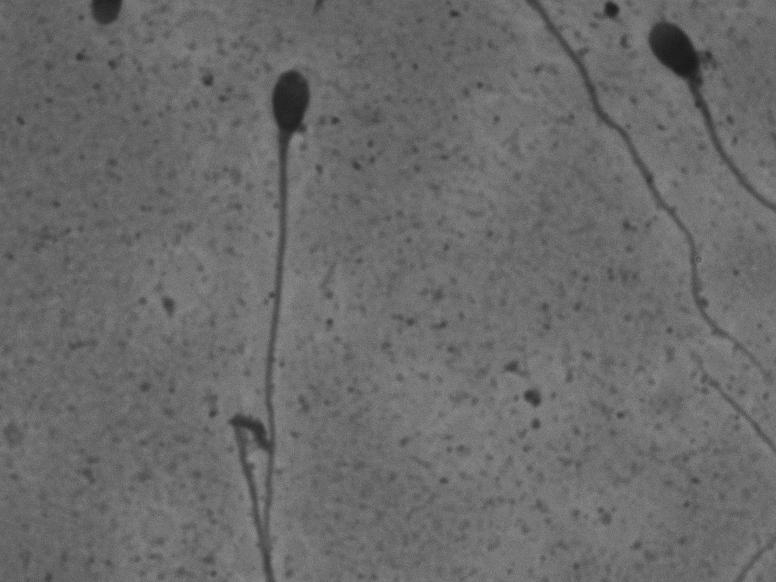Normal: (198, 33, 365, 563)
